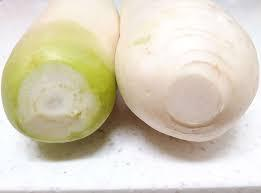radish: (47, 0, 106, 44), (0, 0, 49, 44)
